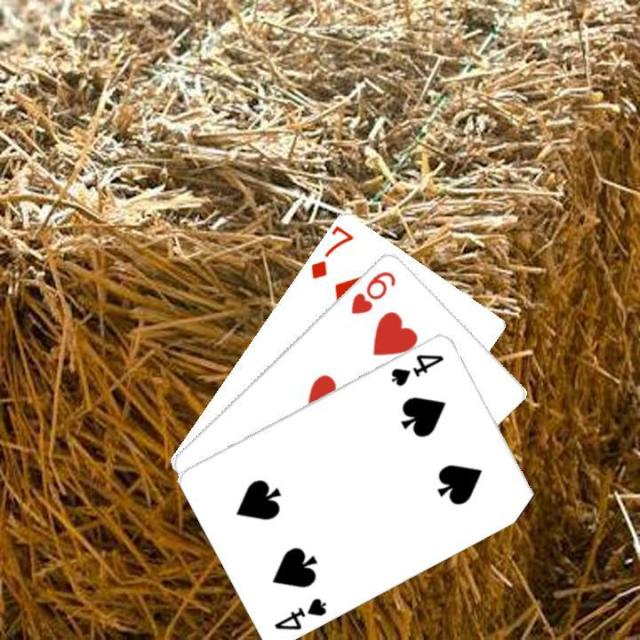4S: (270, 593, 329, 632), (387, 350, 446, 388)
6H: (347, 266, 397, 316)
7D: (306, 222, 356, 281)
